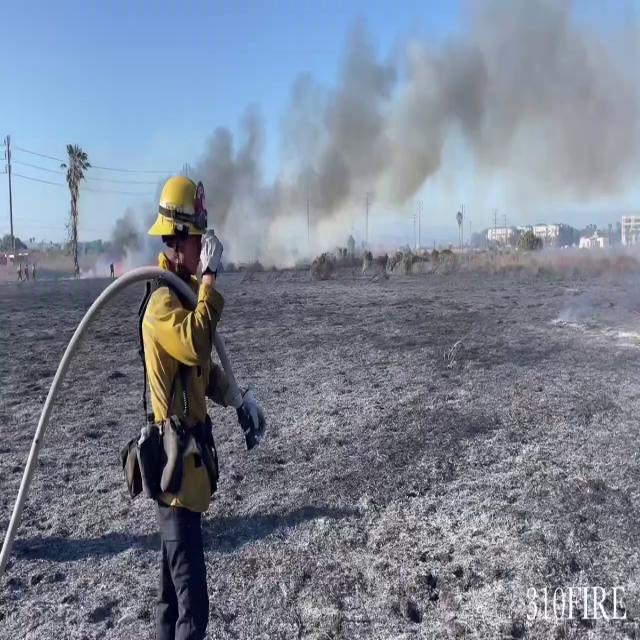Smoke: (198, 4, 498, 268), (492, 0, 640, 254)
